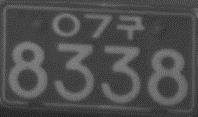0: (51, 11, 81, 38)
3: (99, 42, 142, 103), (53, 42, 94, 102)
7: (83, 11, 114, 39)
8: (147, 46, 188, 107), (6, 41, 49, 99)
구: (116, 13, 145, 41)
